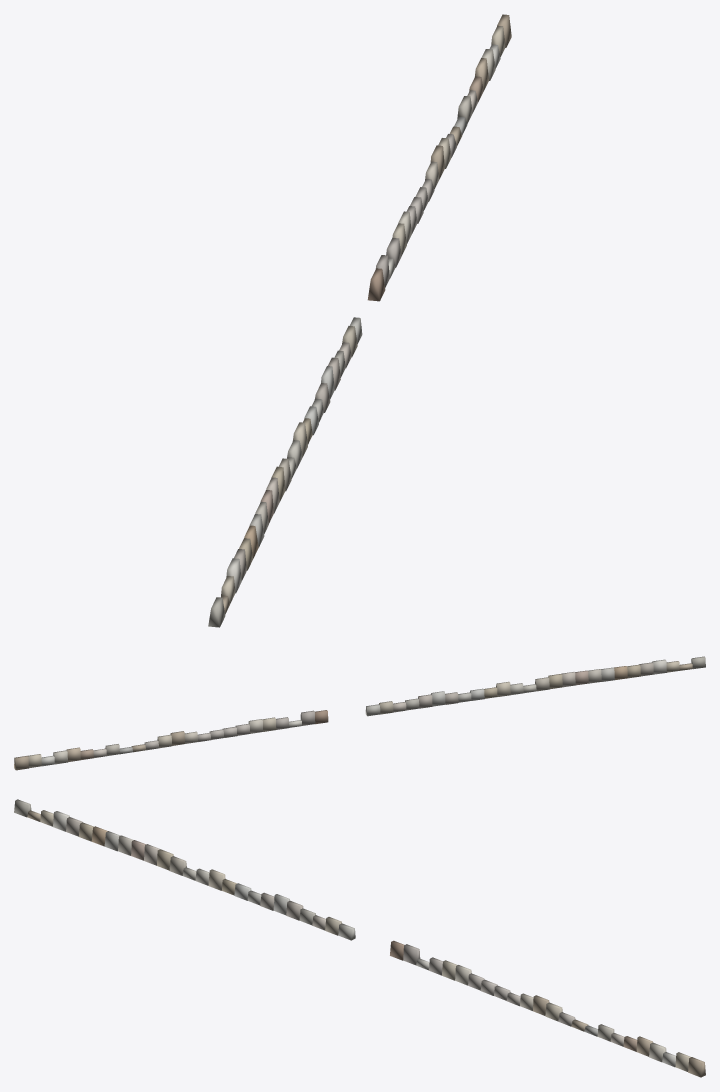
Rendered from farm_5_13_collision.glb.
3 renders of one model, top to bottom at view 1: azimuth 30°, elevation 25°; view 2: azimuth 150°, elevation 25°; view 3: azimuth 270°, elevation 25°, orthographic. The views are drawn at different scales.
Parts seen in each view (by area): view 1: geometry_0; view 2: geometry_0; view 3: geometry_0.
Boxes of the visible parts, box(x1,y1,x2,y2) form: geometry_0: box(208, 14, 511, 627); geometry_0: box(14, 656, 705, 770); geometry_0: box(14, 799, 705, 1077).
Size of the model in its own units: 56.77 by 2.33 by 63.88.
